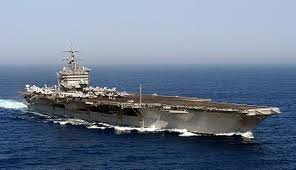tau_muctieu: (25, 60, 279, 142)
